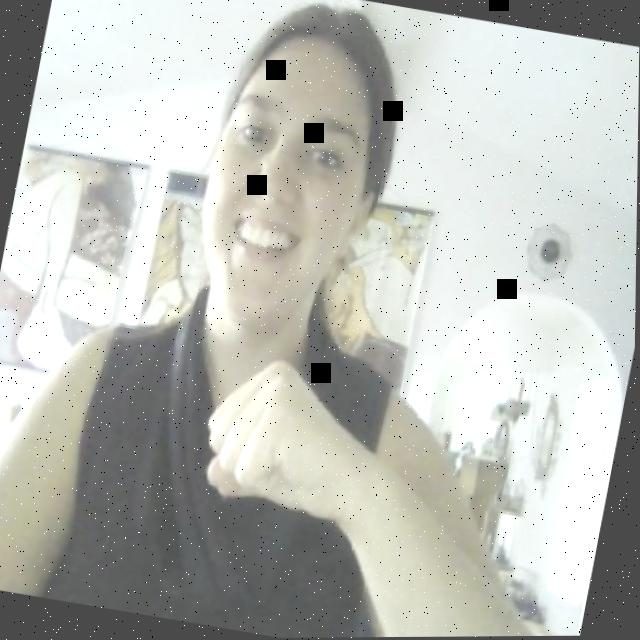Rock: (184, 347, 384, 538)
